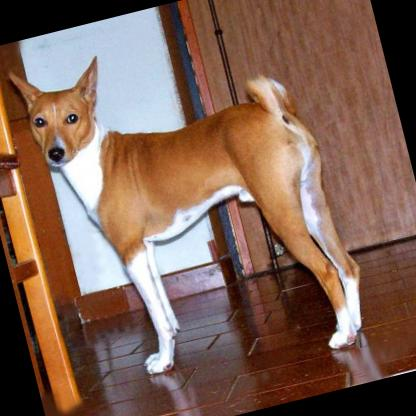basenji: (4, 0, 378, 409)
